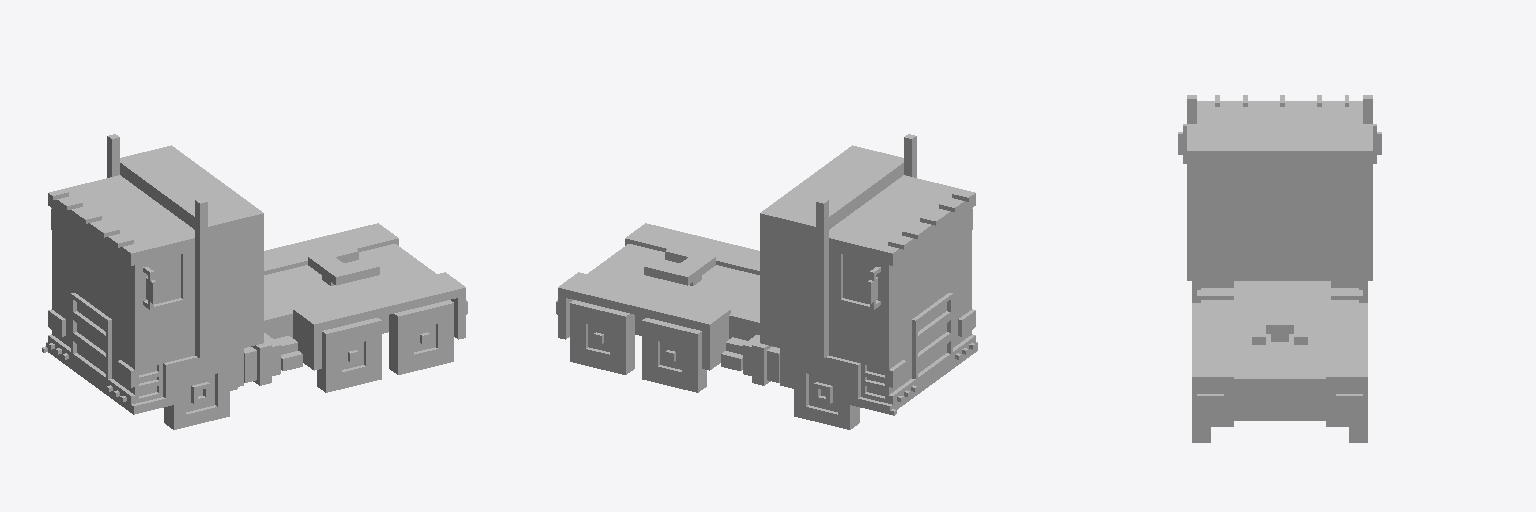
The model's file is alll cars3-150.obj.
The picture shows the model from 3 angles: view 1: azimuth 30°, elevation 25°; view 2: azimuth 150°, elevation 25°; view 3: azimuth 270°, elevation 25°; orthographic projection.
Visible parts, largest first — view 1: object 1; view 2: object 1; view 3: object 1.
Boxes of the visible parts, x1,y1,x2,y2 form: object 1: [42, 134, 467, 429]; object 1: [556, 134, 977, 429]; object 1: [1178, 95, 1381, 442].
Bounding box in the file's own units: 8.5 × 5.3 × 4.4.